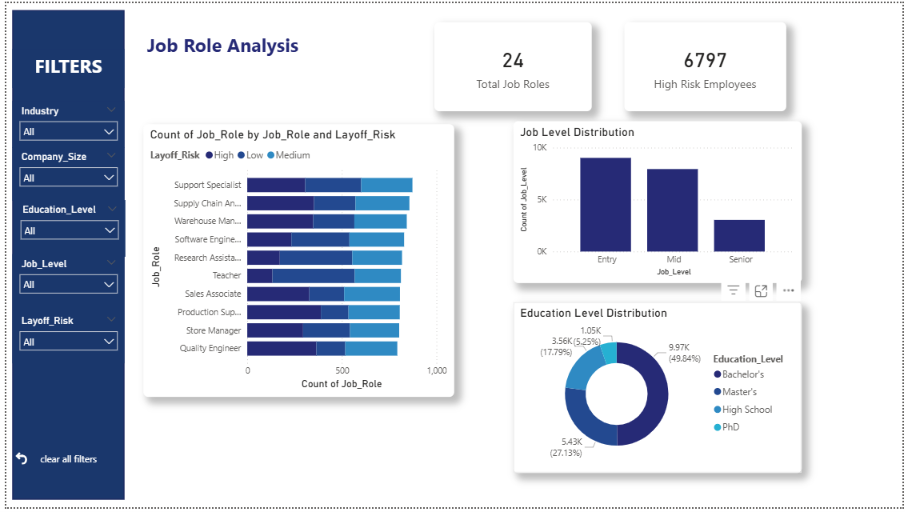

This screenshot's page, from the dashboard's own definition file:
{"tool":"powerbi","page":{"name":"Job Role Analysis","canvas":[1280,720],"ordinal":7},"visuals":[{"type":"shape","box":[8.7,10,160,699.1],"z":0},{"type":"textbox","box":[8.4,66.3,160.2,55.4],"z":1000},{"type":"slicer","fields":{"Values":["AI_Impact_Cleaned.Industry"]},"box":[8.4,139.8,160.2,66.3],"z":2000},{"type":"slicer","fields":{"Values":["AI_Impact_Cleaned.Company_Size"]},"box":[8.4,206,160.2,75.9],"z":3000},{"type":"slicer","fields":{"Values":["AI_Impact_Cleaned.Education_Level"]},"box":[9.6,281.9,160.2,80.7],"z":4000},{"type":"slicer","fields":{"Values":["AI_Impact_Cleaned.Job_Level"]},"box":[8.4,359,160.2,80.7],"z":5000},{"type":"slicer","fields":{"Values":["AI_Impact_Cleaned.Layoff_Risk"]},"box":[8.4,439.8,160.2,74.7],"z":6000},{"type":"actionButton","box":[8.4,630.1,160.2,39.8],"z":7000},{"type":"textbox","box":[195.3,36.1,266.2,58.5],"z":8000},{"type":"card","fields":{"Values":["AI_Impact_Cleaned.Total Job Roles"]},"box":[610.8,27.4,225.2,126.9],"z":9000},{"type":"card","fields":{"Values":["AI_Impact_Cleaned.High Risk Employees"]},"box":[883.2,27.4,231.4,126.9],"z":10000},{"type":"barChart","fields":{"Category":["AI_Impact_Cleaned.Job_Role"],"Y":["CountNonNull(AI_Impact_Cleaned.Job_Role)"],"Series":["AI_Impact_Cleaned.Layoff_Risk"]},"box":[195.3,172.9,444.1,389.4],"z":11000},{"type":"clusteredColumnChart","title":"Job Level Distribution","fields":{"Category":["AI_Impact_Cleaned.Job_Level"],"Y":["CountNonNull(AI_Impact_Cleaned.Job_Level)"]},"box":[724,167.9,411.8,231.4],"z":12000},{"type":"donutChart","title":"Education Level Distribution","fields":{"Category":["AI_Impact_Cleaned.Education_Level"],"Y":["CountNonNull(AI_Impact_Cleaned.Education_Level)"]},"box":[724,426.7,411.8,243.8],"z":13000}]}

Visuals, with their boxes in screenshot pixels (x1, y1, x2, y2), scaled from the page's 1280x720 canvas onto the 905x512 screenshot:
shape: crop(6, 7, 119, 504)
textbox: crop(6, 47, 119, 87)
slicer - AI_Impact_Cleaned.Industry: crop(6, 99, 119, 147)
slicer - AI_Impact_Cleaned.Company_Size: crop(6, 146, 119, 200)
slicer - AI_Impact_Cleaned.Education_Level: crop(7, 200, 120, 258)
slicer - AI_Impact_Cleaned.Job_Level: crop(6, 255, 119, 313)
slicer - AI_Impact_Cleaned.Layoff_Risk: crop(6, 313, 119, 366)
actionButton: crop(6, 448, 119, 476)
textbox: crop(138, 26, 326, 67)
card - AI_Impact_Cleaned.Total Job Roles: crop(432, 19, 591, 110)
card - AI_Impact_Cleaned.High Risk Employees: crop(624, 19, 788, 110)
barChart - AI_Impact_Cleaned.Job_Role x CountNonNull(AI_Impact_Cleaned.Job_Role): crop(138, 123, 452, 400)
"Job Level Distribution" clusteredColumnChart: crop(512, 119, 803, 284)
"Education Level Distribution" donutChart: crop(512, 303, 803, 477)
